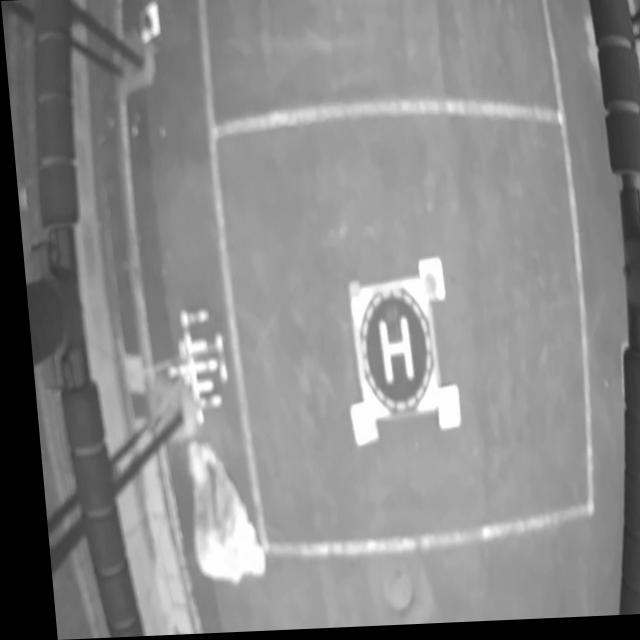Helipad: (371, 320, 406, 386)
